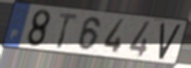4: (127, 19, 152, 59), (101, 18, 126, 55)
6: (77, 16, 103, 52)
8: (26, 8, 52, 48)
T: (56, 11, 80, 50)
V: (157, 22, 183, 61)
